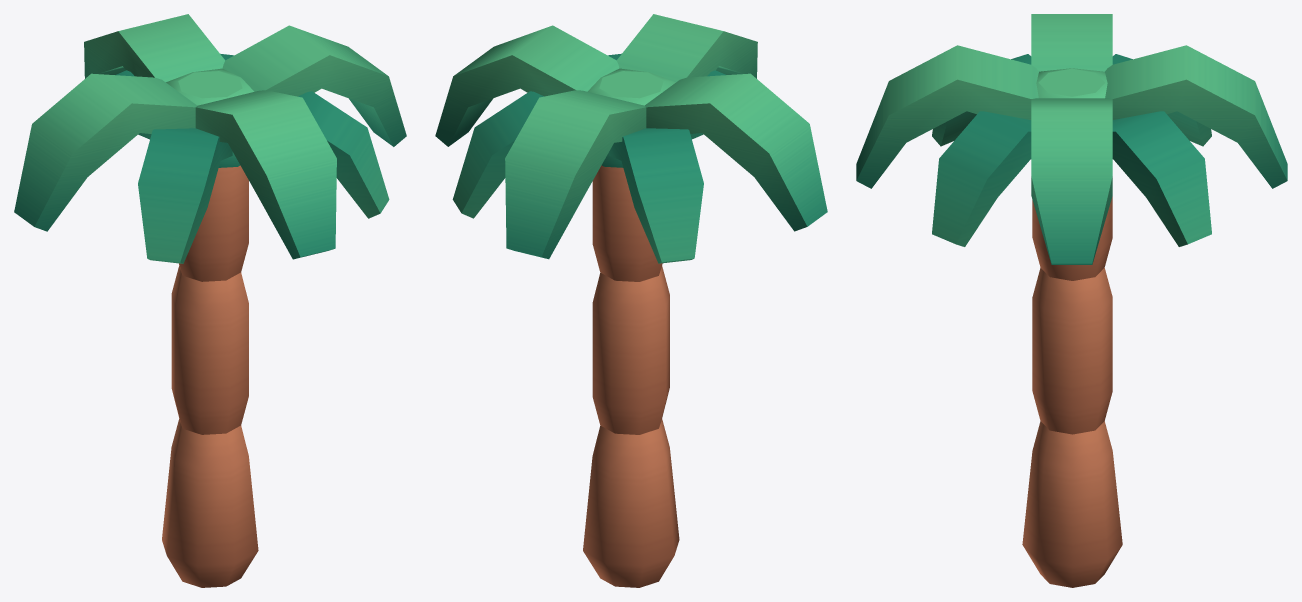
Rendered from palm-detailed-straight.gltf.
3 renders of one model, left to right at view 1: azimuth 30°, elevation 25°; view 2: azimuth 150°, elevation 25°; view 3: azimuth 270°, elevation 25°, orthographic.
Parts seen in each view (by area): view 1: palm-detailed-straight; view 2: palm-detailed-straight; view 3: palm-detailed-straight.
Part boxes in pixels (left/top/right/bottom): palm-detailed-straight: left=14, top=14, right=406, bottom=587; palm-detailed-straight: left=435, top=14, right=827, bottom=587; palm-detailed-straight: left=856, top=14, right=1287, bottom=587.
Bounding box in the file's own units: 3.22 × 4.21 × 3.22.
1 material, 1 textured.
